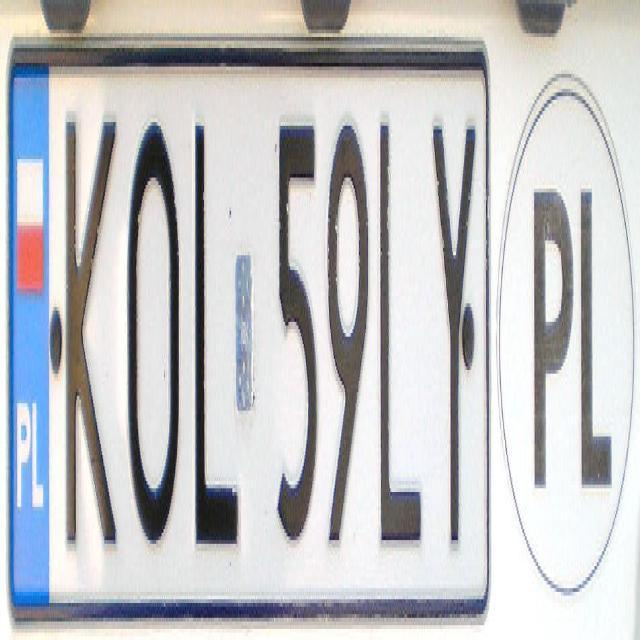License_Plate: (0, 44, 491, 612)
